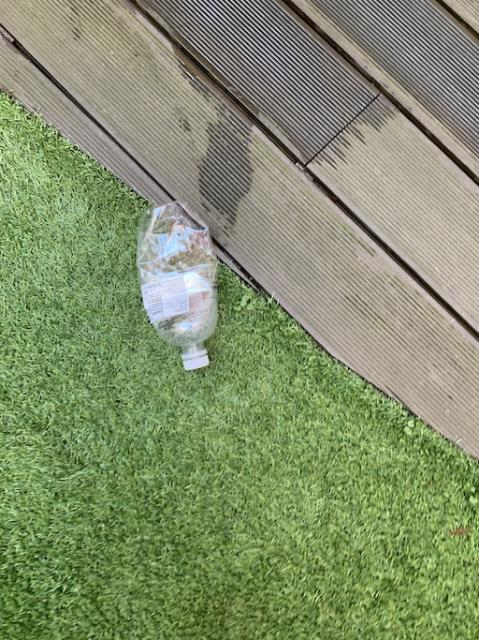plastic: (136, 201, 216, 368)
